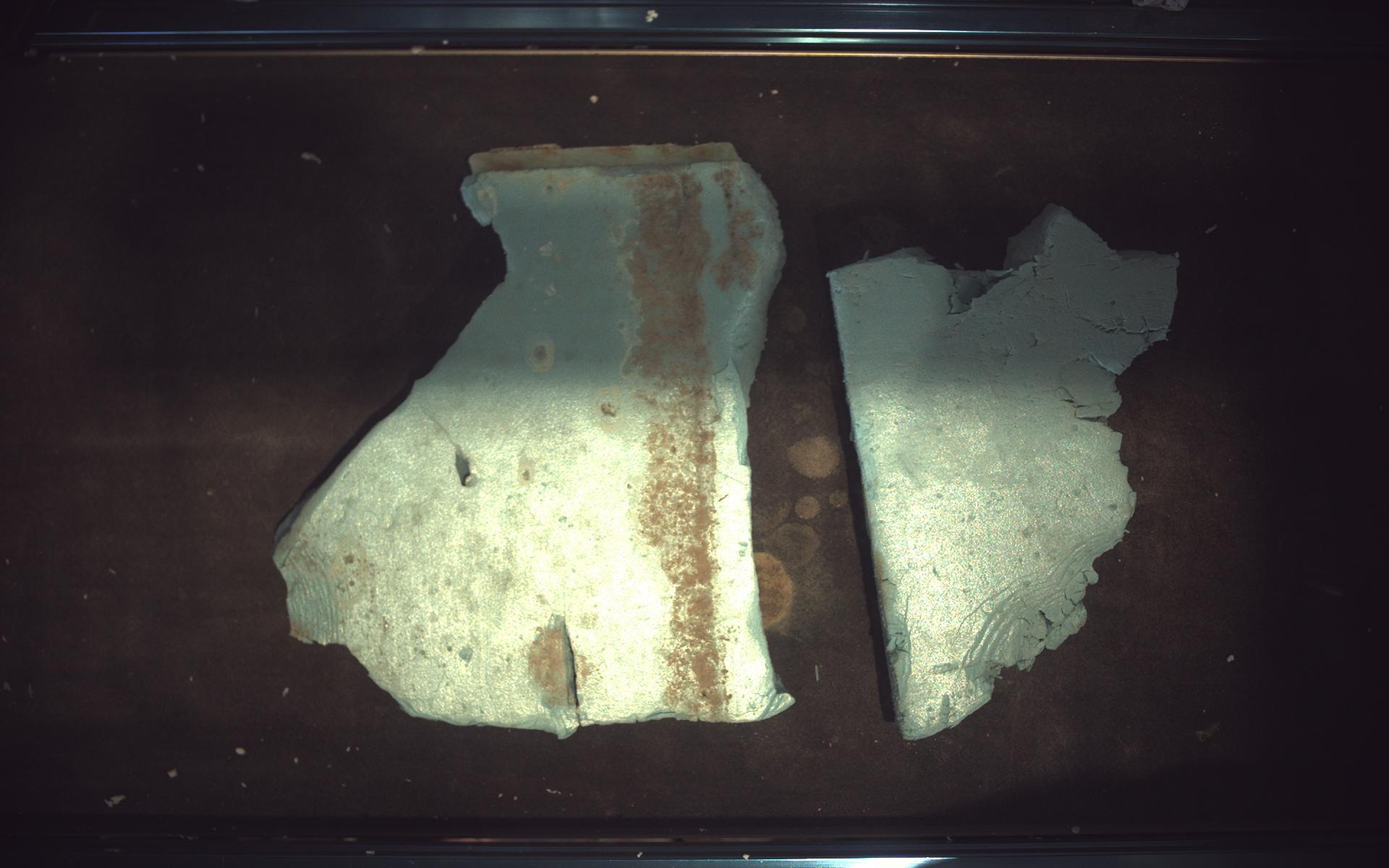foam: (274, 142, 794, 739), (831, 205, 1181, 741)
